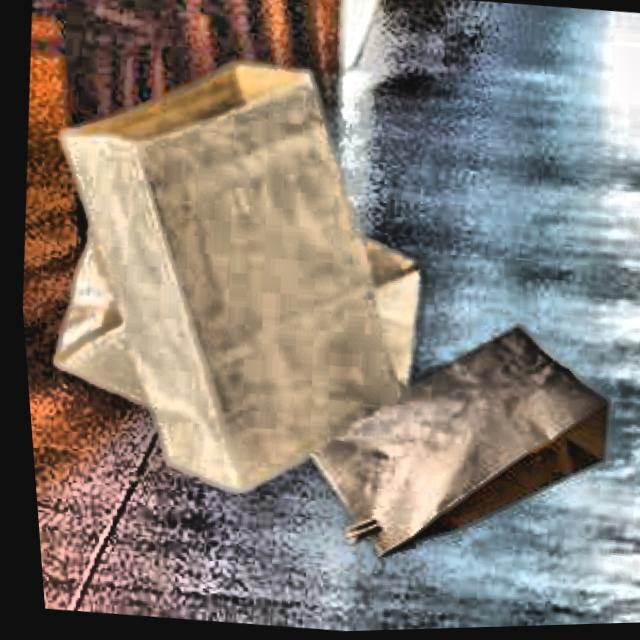Paper-bag: (16, 30, 444, 512), (263, 276, 636, 588)
